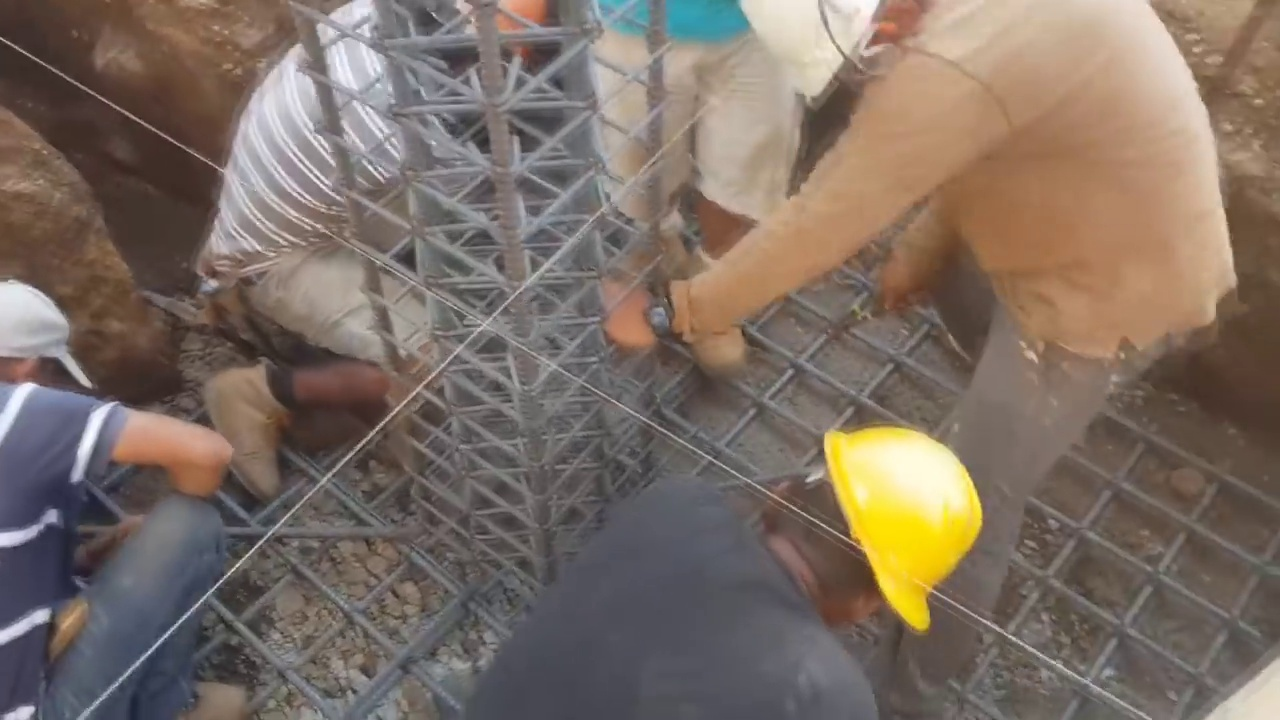helmet: (819, 432, 981, 641), (738, 3, 881, 108), (431, 0, 549, 59)
helmet-off: (0, 284, 71, 401)
helmet-on: (746, 433, 985, 643), (736, 0, 946, 117), (386, 0, 551, 74)
person: (608, 0, 1241, 576), (192, 0, 553, 502), (472, 437, 984, 720), (0, 301, 248, 718), (582, 1, 808, 383)
